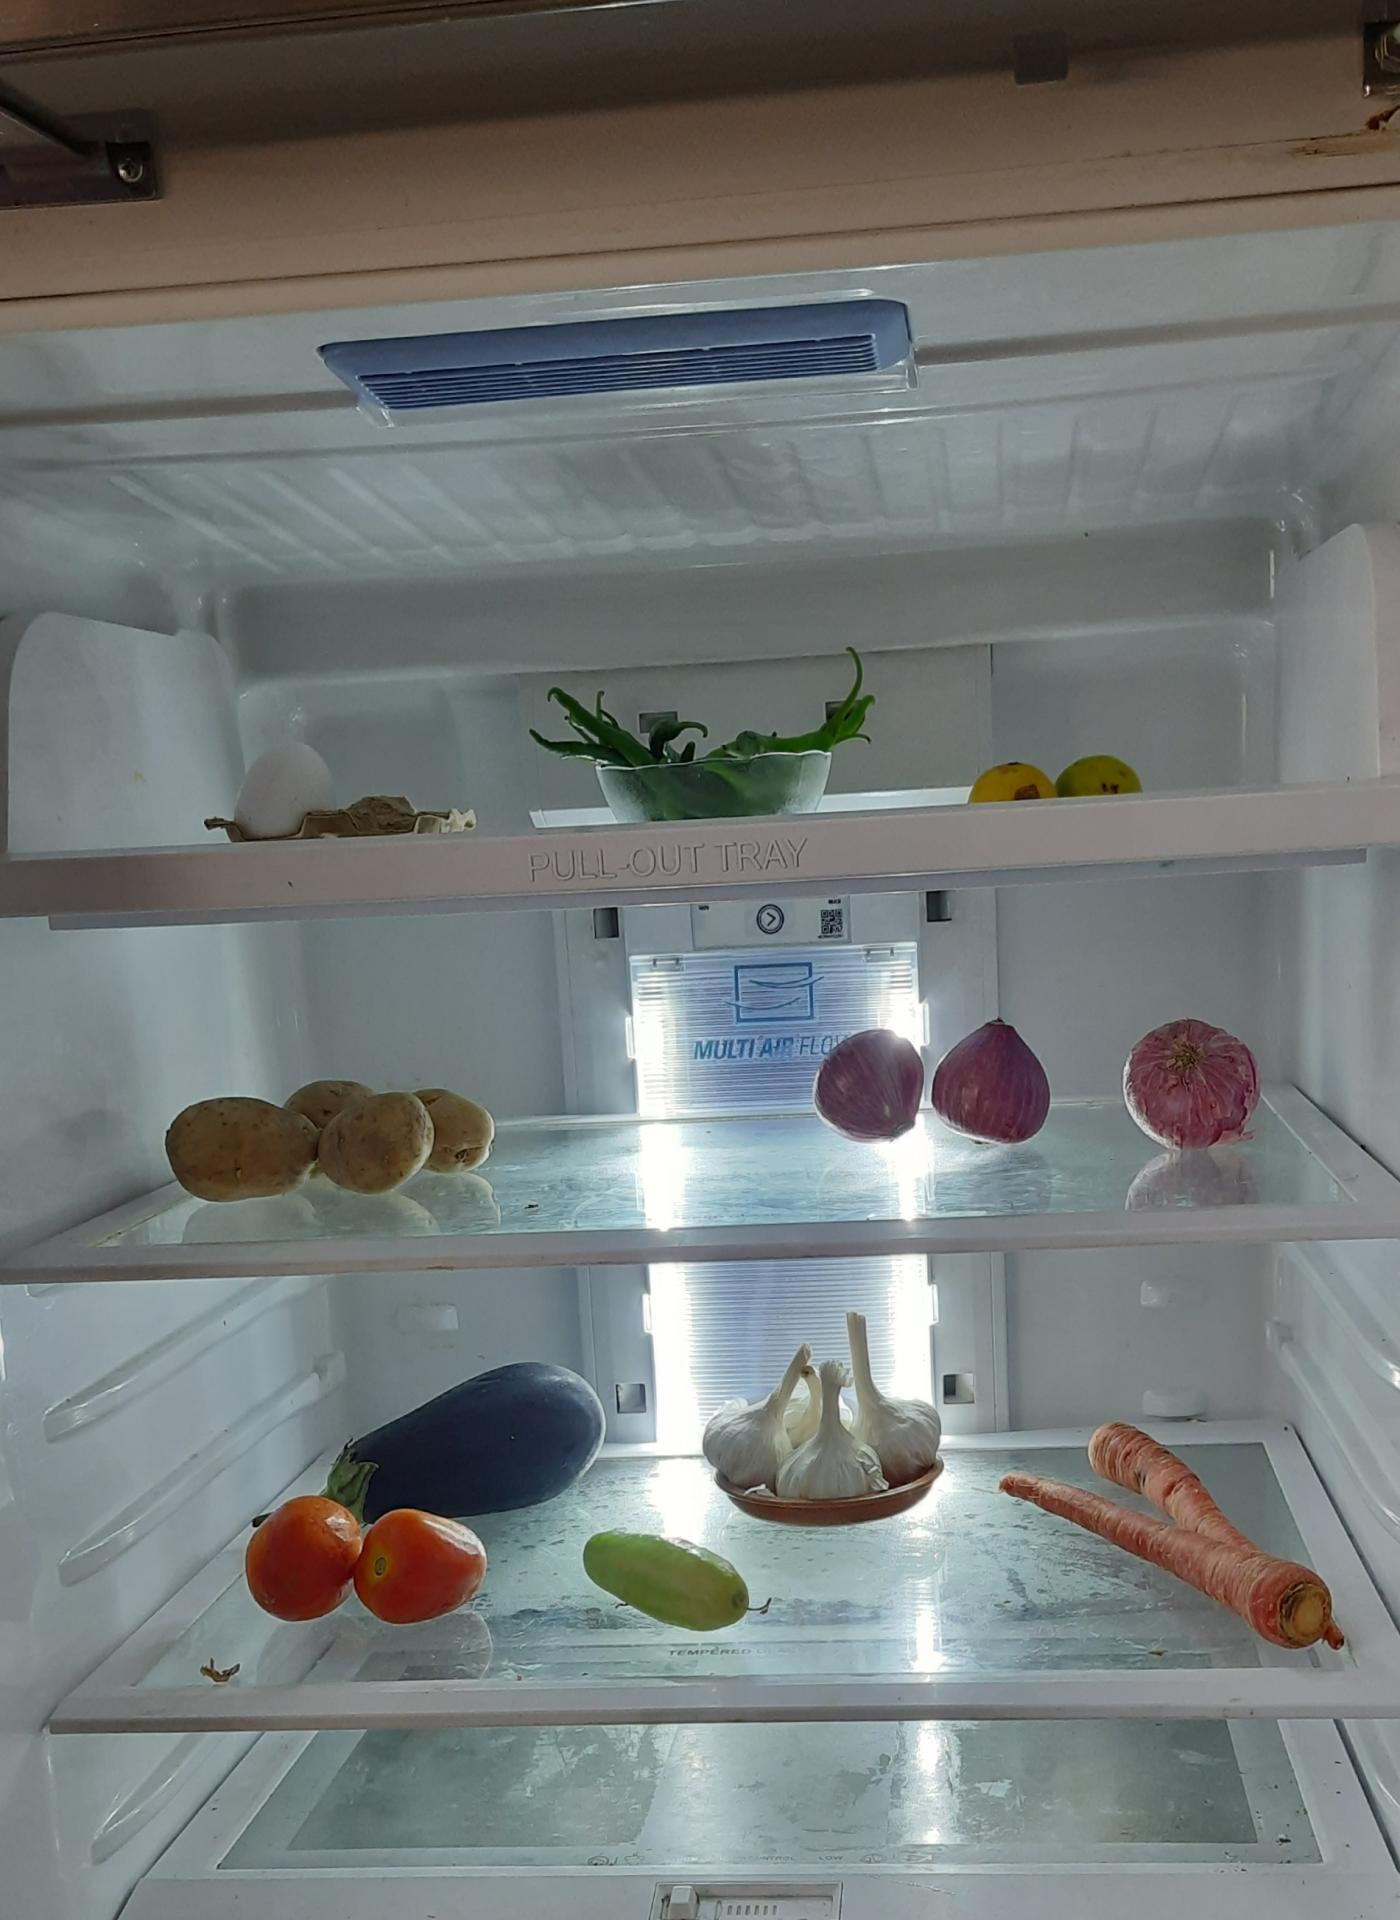brinjal: (297, 1358, 616, 1523)
carrots: (1003, 1407, 1345, 1643)
chillies: (547, 654, 883, 792)
cucumber: (578, 1522, 775, 1634)
egg: (219, 726, 349, 833)
garlic: (707, 1301, 944, 1510)
lemon: (966, 739, 1142, 800)
onion: (1127, 1018, 1266, 1160), (924, 1012, 1051, 1146), (808, 1018, 927, 1151)
potato: (165, 1069, 499, 1194)
tomato: (258, 1491, 486, 1631)
